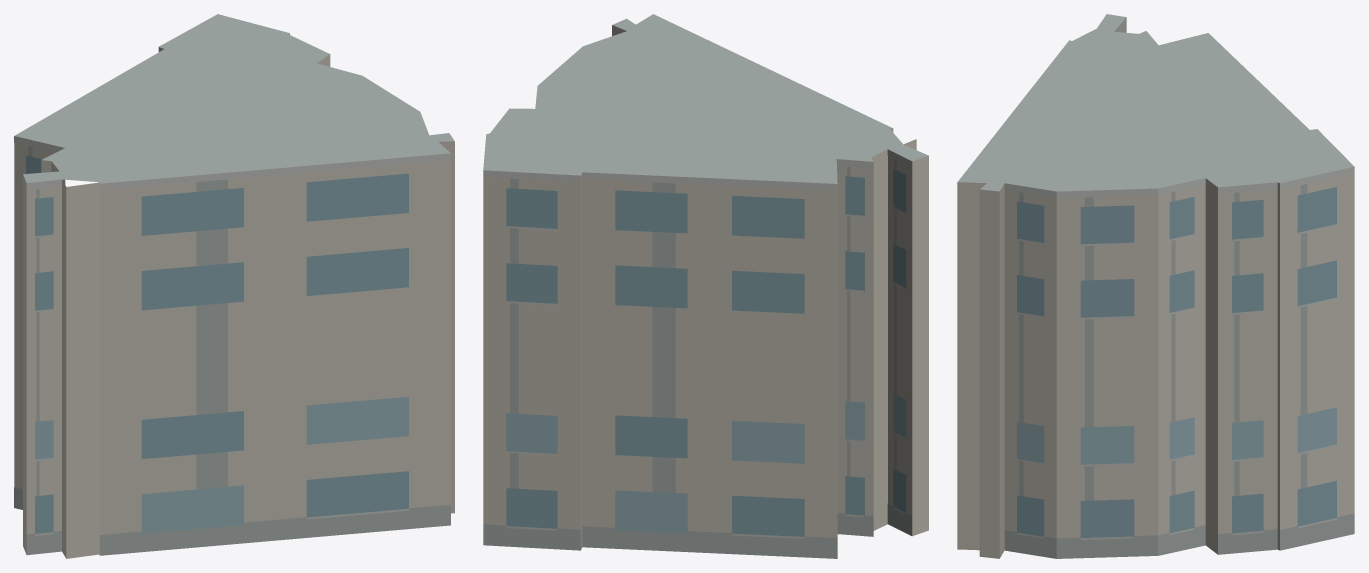
The model's file is survey-upis-32571210.glb.
3 views of the same model, side by side, from view 1: azimuth 30°, elevation 25°; view 2: azimuth 150°, elevation 25°; view 3: azimuth 270°, elevation 25° (orthographic). The views are drawn at different scales.
Parts seen in each view (by area): view 1: survey-upis-32571210.tmp; view 2: survey-upis-32571210.tmp; view 3: survey-upis-32571210.tmp.
Part boxes in pixels (left/top/right/bottom): survey-upis-32571210.tmp: left=14, top=14, right=454, bottom=558; survey-upis-32571210.tmp: left=483, top=14, right=928, bottom=558; survey-upis-32571210.tmp: left=957, top=14, right=1354, bottom=558.
Size of the model in its own units: 13.78 by 13.29 by 13.03.
